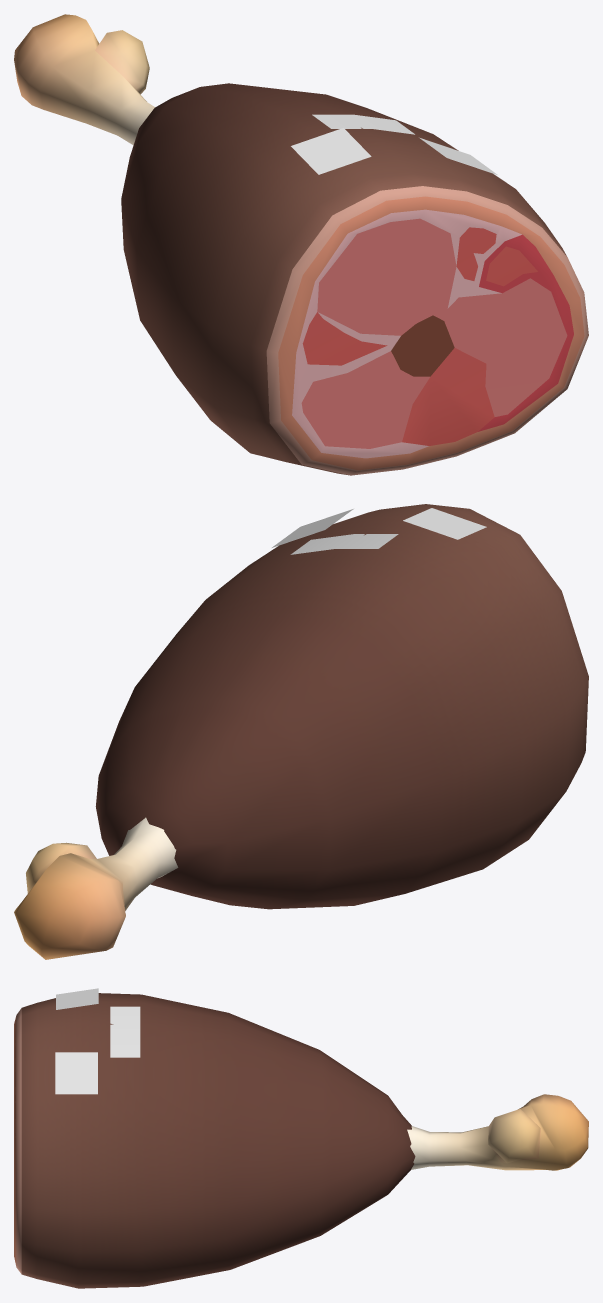
Rendered from lamb_smile.fbx.
3 views of the same model, one above another, from view 1: azimuth 30°, elevation 25°; view 2: azimuth 150°, elevation 25°; view 3: azimuth 270°, elevation 25° (orthographic). The views are drawn at different scales.
Visible parts, largest first — view 1: lamb_smile; view 2: lamb_smile; view 3: lamb_smile.
Boxes of the visible parts, <box> form: lamb_smile: <box>14,14,588,475</box>; lamb_smile: <box>14,504,588,959</box>; lamb_smile: <box>14,988,588,1288</box>.
Bounding box in the file's own units: 112 × 96.01 × 205.
2 materials, 1 textured.
